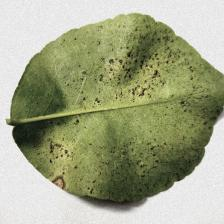canker: (44, 43, 198, 183)
